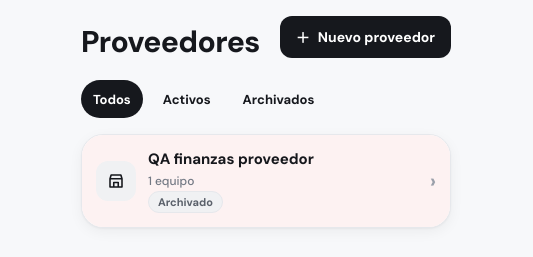
Scenario: reports no active suppliers when existing suppliers are archived
Expected: the button "QA finanzas proveedor 1 equipo Archivado ›" is shown, x1=82 y1=135 x2=450 y2=227
What coordinates should you click on to do the following:
click the button "Activos"
I would click on:
 (187, 99)
Its box is x1=151 y1=80 x2=223 y2=118.
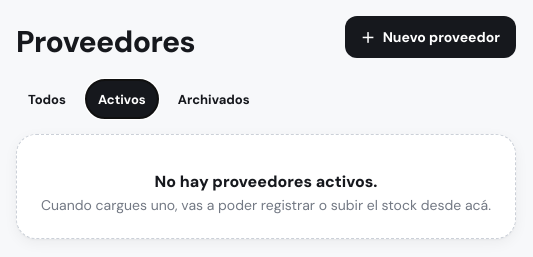
Expected: the heading "No hay proveedores activos." is shown, x1=155 y1=171 x2=378 y2=192
